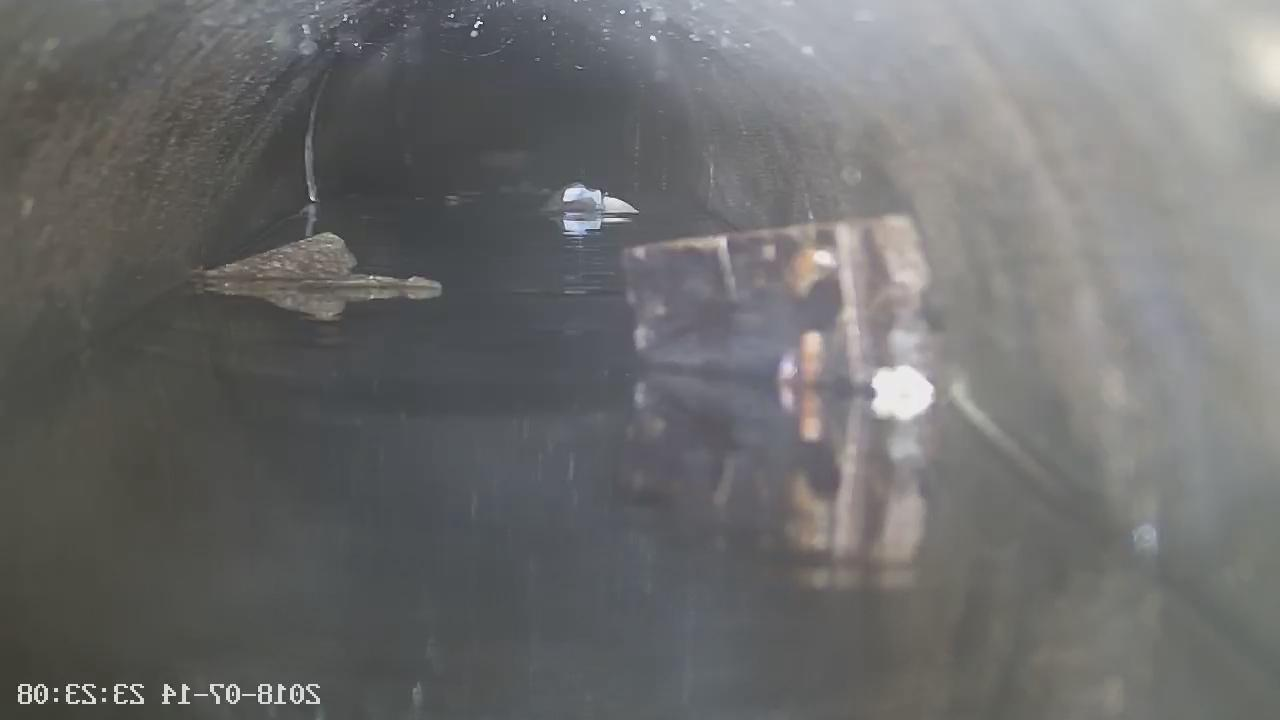ZAW: (621, 215, 928, 406), (193, 233, 443, 320)
